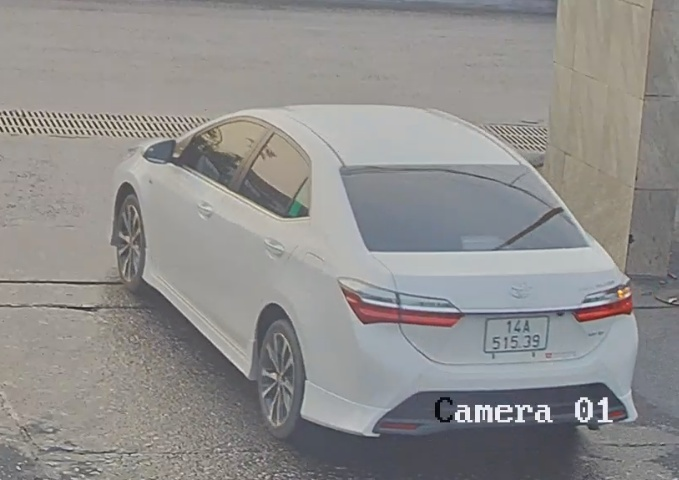vehicle plate: (481, 316, 555, 355)
